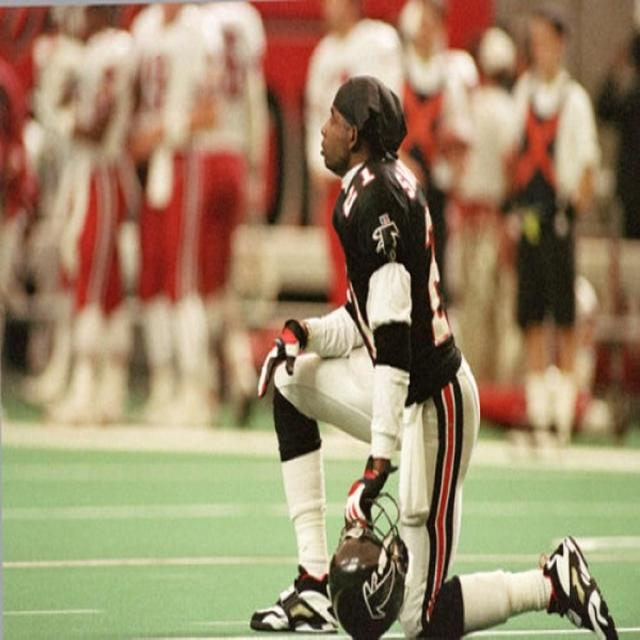nomask: (320, 98, 352, 174)
